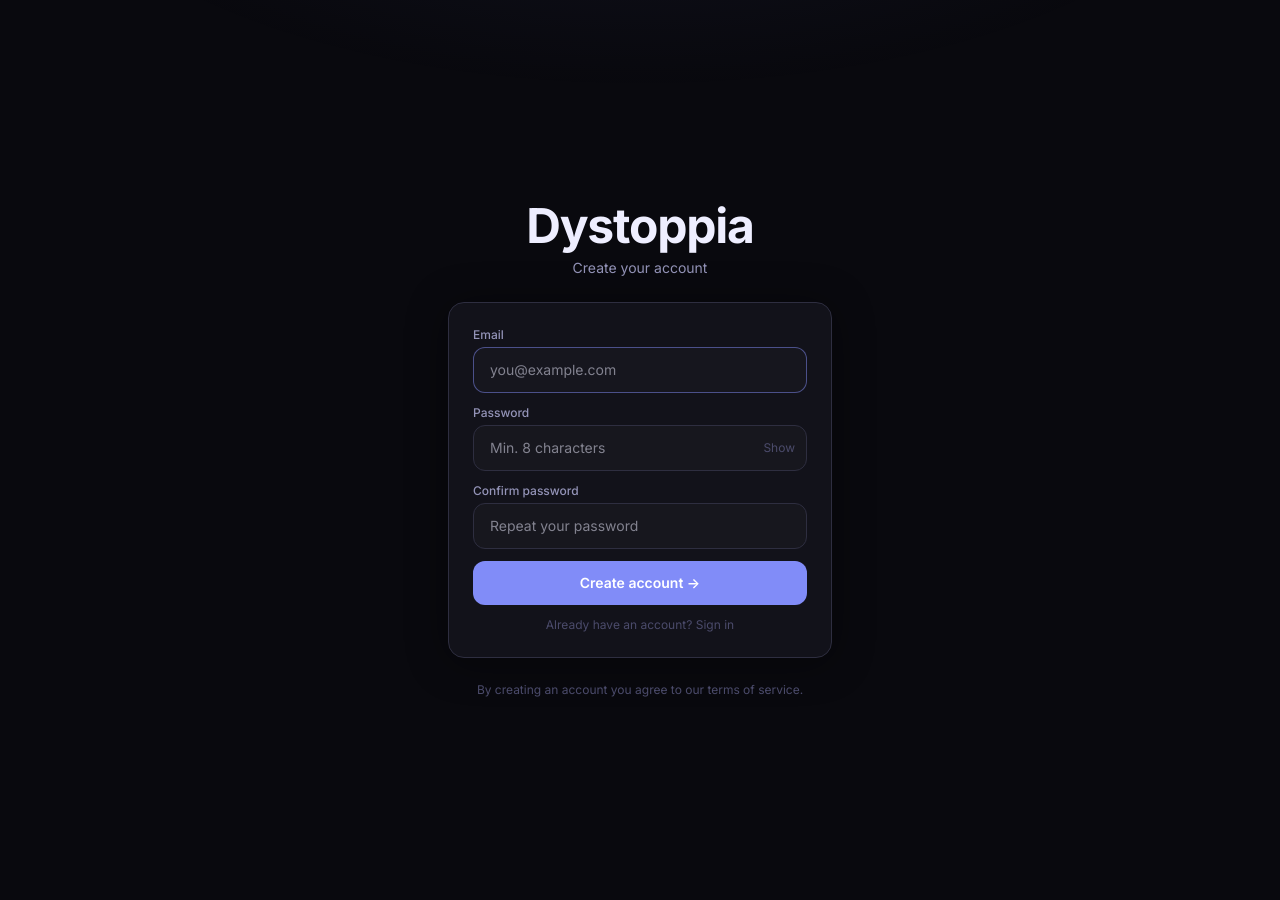
it: RegisterPage — step 1 validation › shows error when passwords don't match
Type "a@test.com" into the field with placeholder "you@example.com" at (640, 370), box x1=473 y1=347 x2=807 y2=393
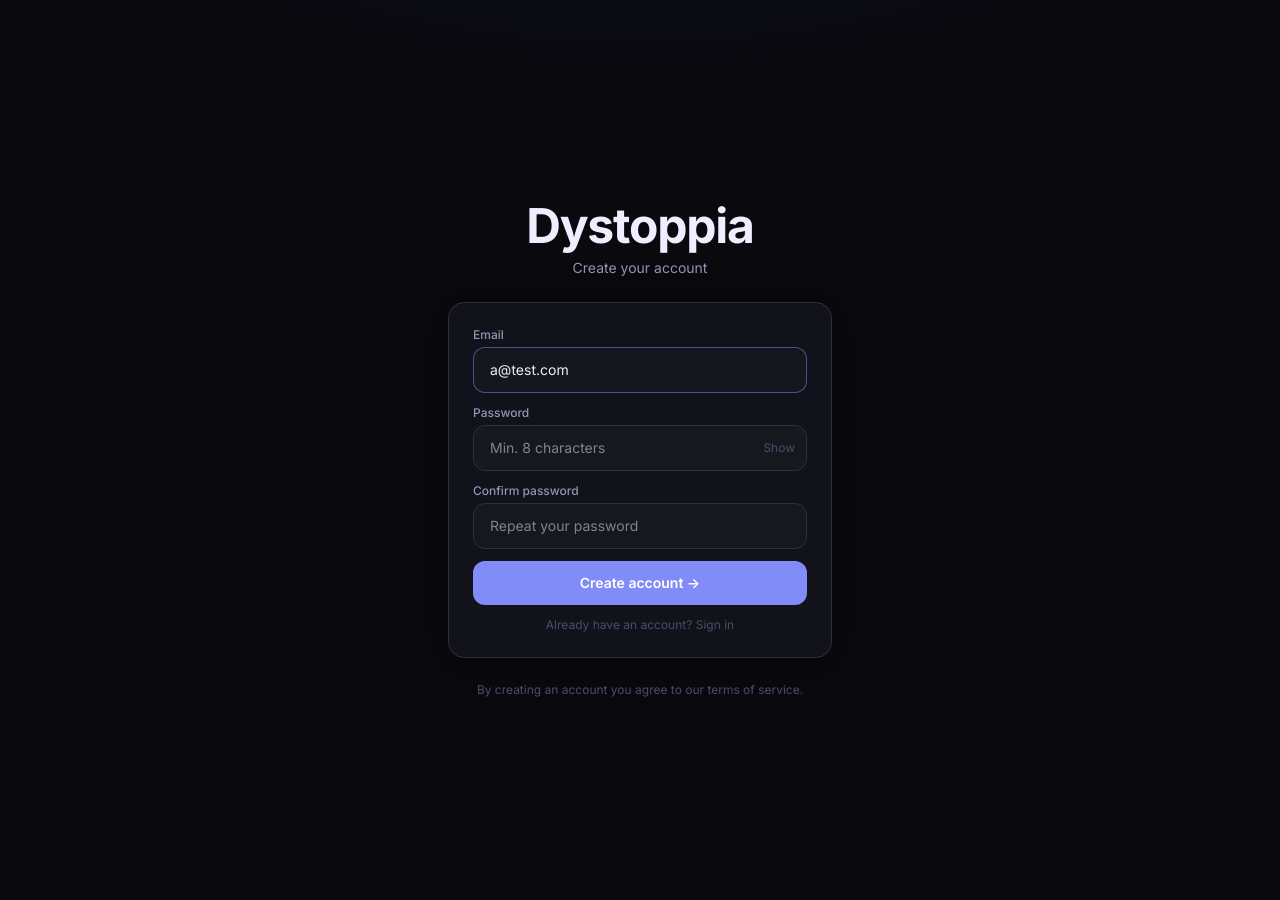
Type "password123" into the password field with placeholder "Min. 8 characters" at (640, 448), box x1=473 y1=425 x2=807 y2=471
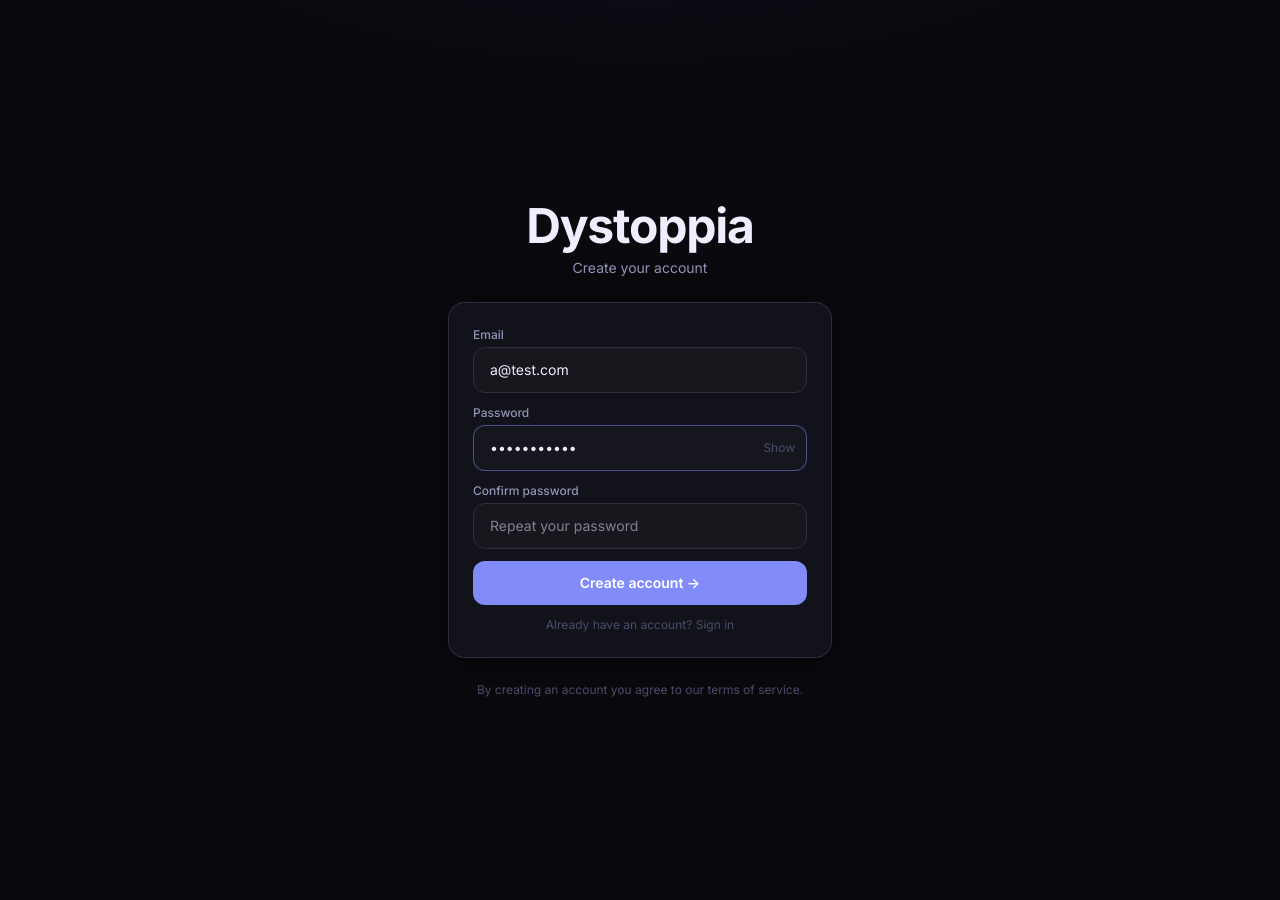
Type "different1" into the password field with placeholder "Repeat your password" at (640, 526), box x1=473 y1=503 x2=807 y2=549
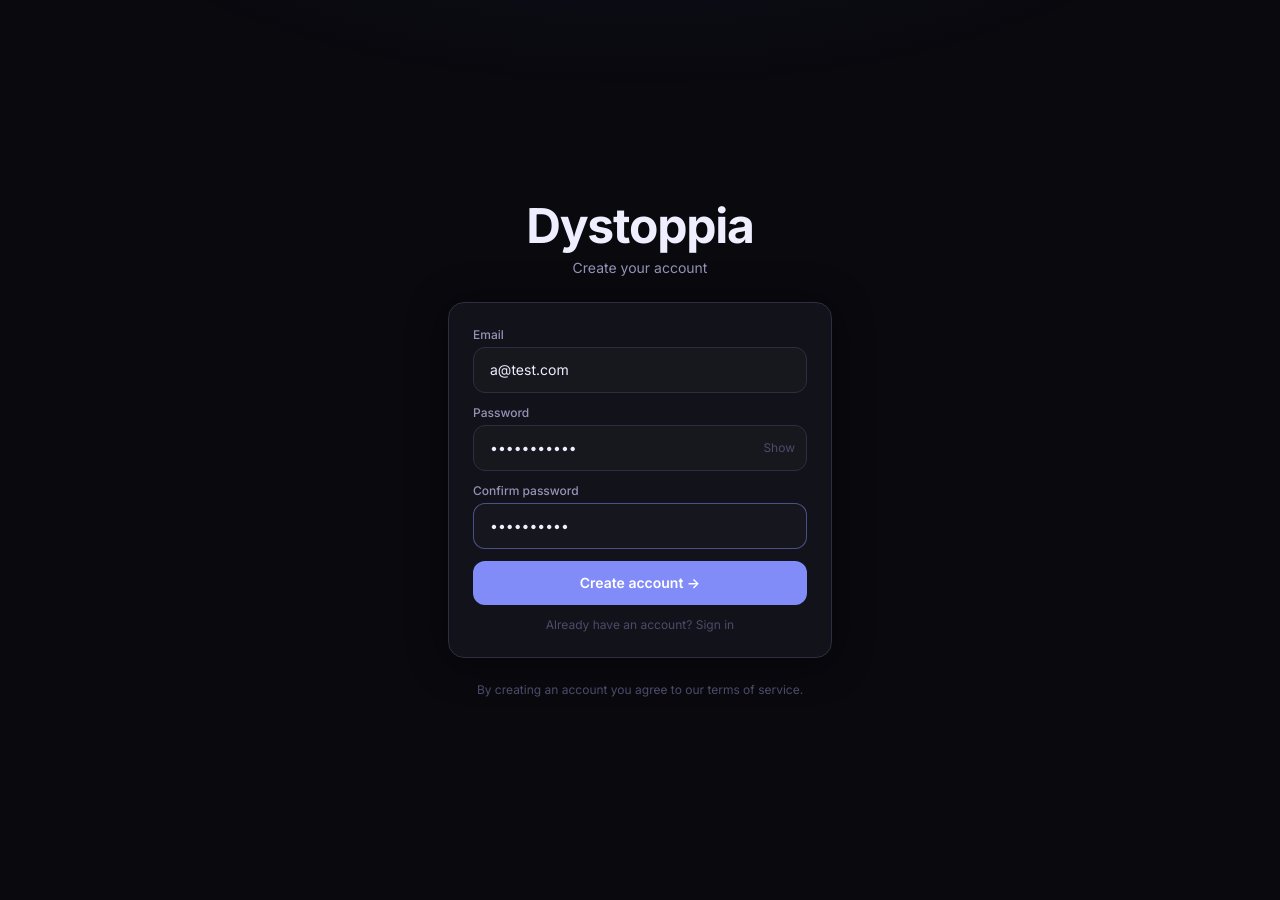
Click the button "Create account →" at (640, 583), box x1=473 y1=561 x2=807 y2=605
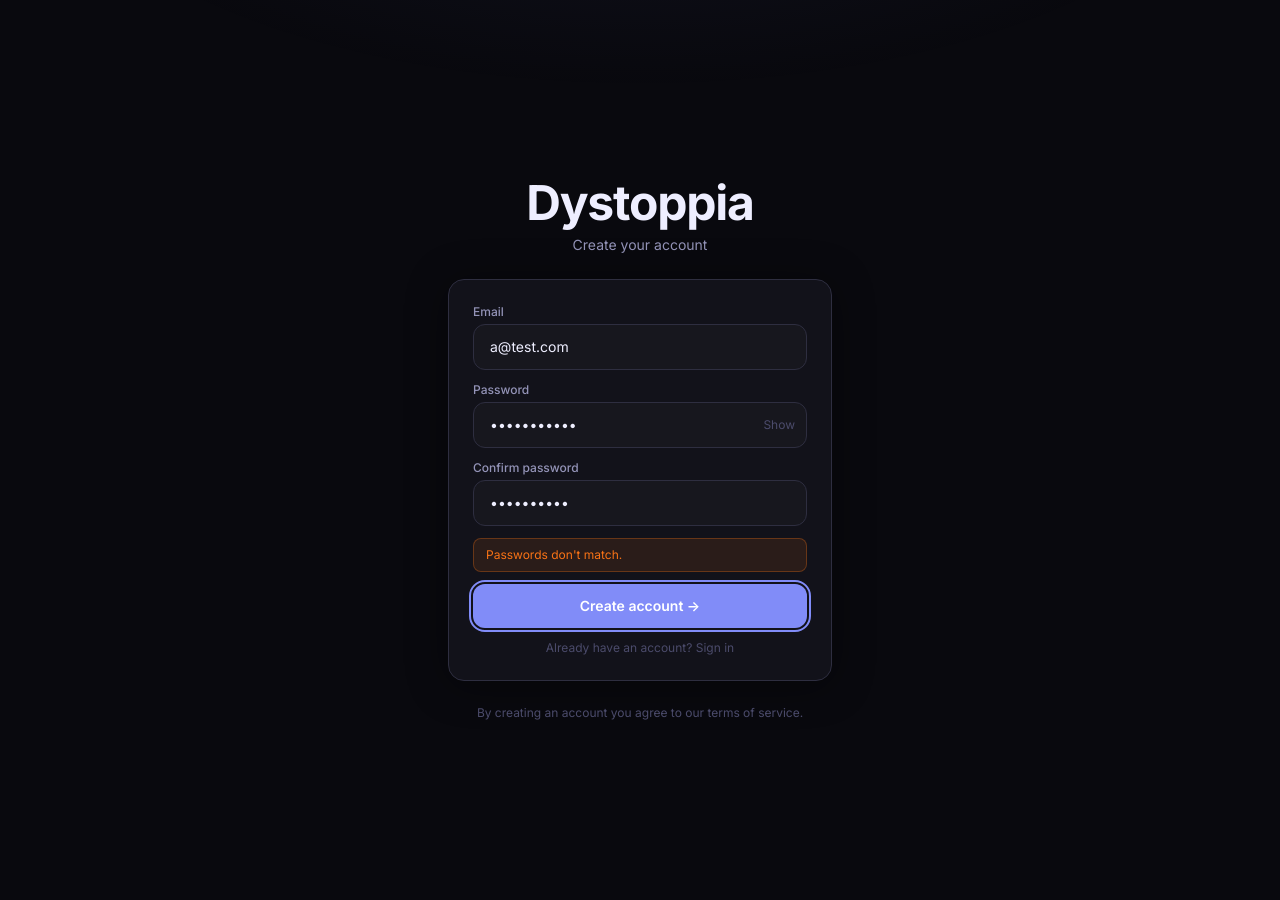
Expected: the text "Passwords don't match." is shown, x1=473 y1=538 x2=807 y2=572
